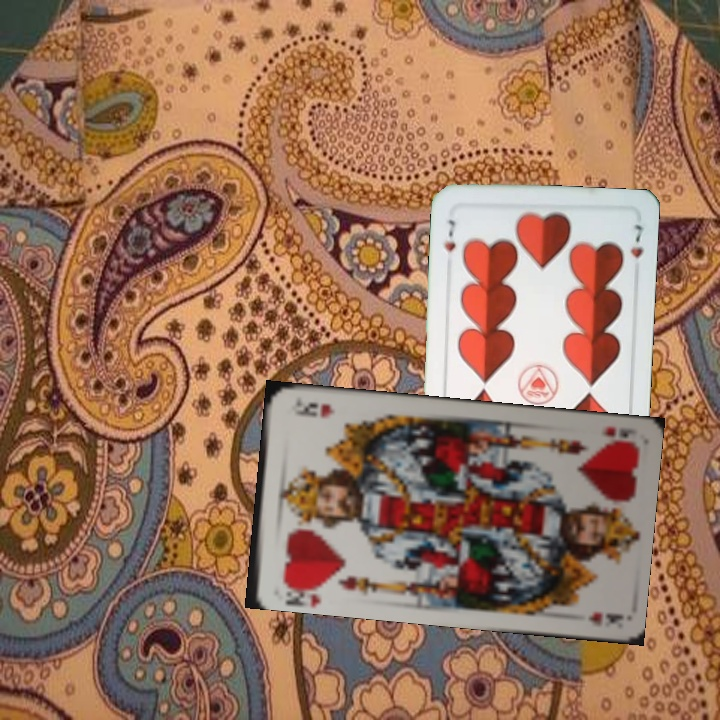H7: (440, 215, 458, 257)
HK: (278, 575, 330, 605), (597, 423, 637, 440)
